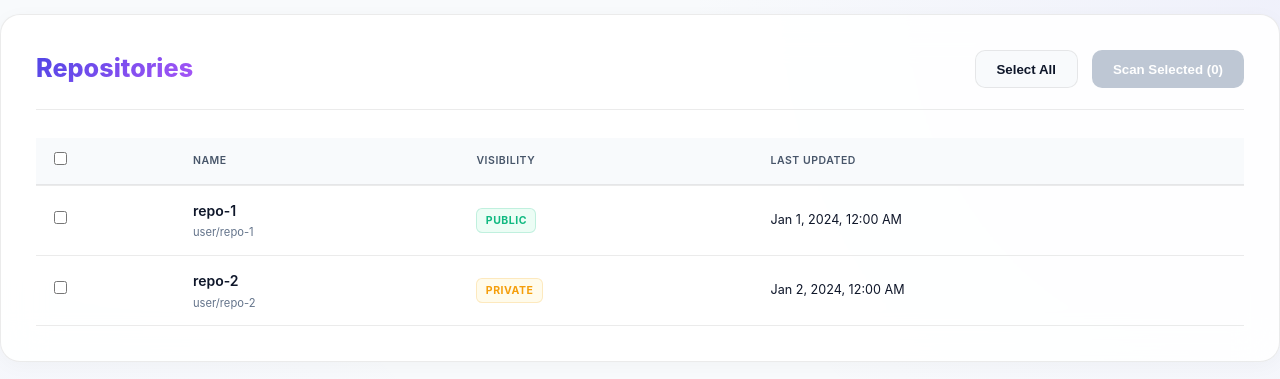
it: RepositoryList Component › Unit Tests › should allow selecting multiple repositories
The image size is (1280, 379).
Expected: the text "repo-1" is shown, [193,202,236,219]
Click the checkbox named "Select repo-1": click(60, 218) [54,211,66,224]
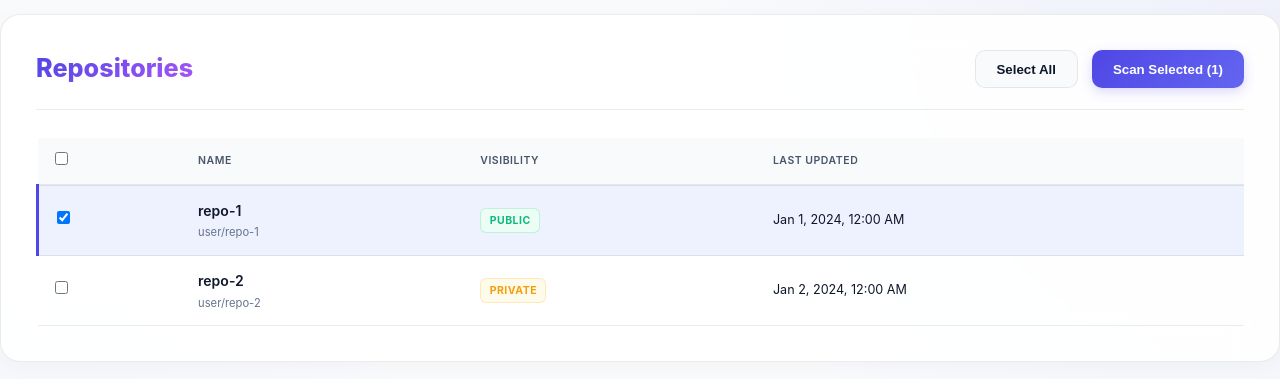
Click the checkbox named "Select repo-2": click(62, 288) [55,281,68,294]
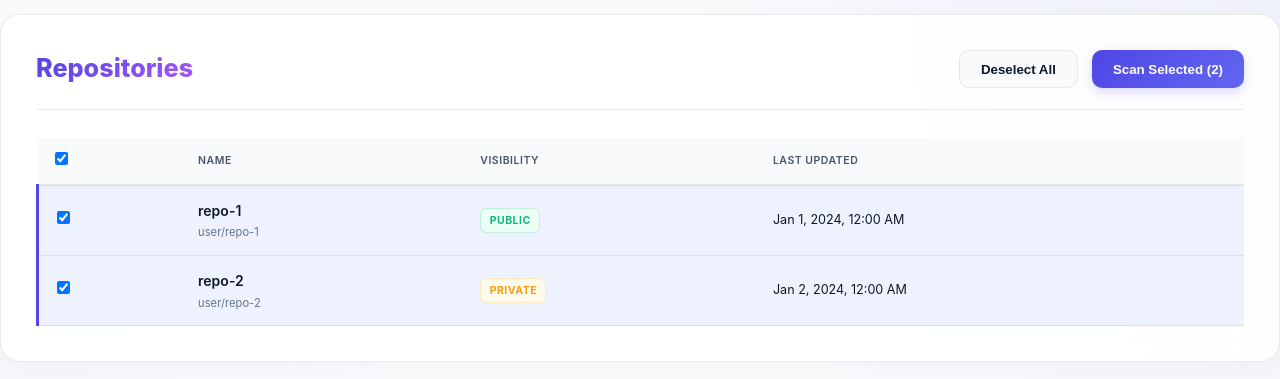
Now the checkbox named "Select repo-1" is checked, box [56,211,70,224]
Now the checkbox named "Select repo-2" is checked, box [56,281,70,294]
Now the button "Scan Selected (2)" is shown, box [1092,50,1244,88]
